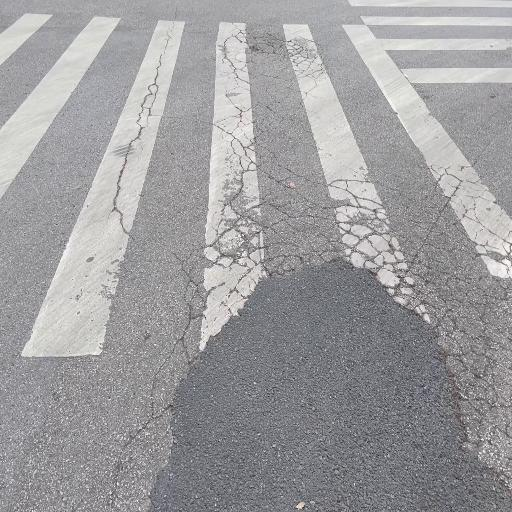Sambungan: (147, 257, 512, 512)
